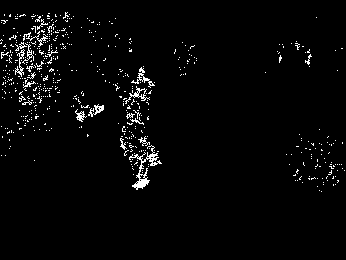person: (119, 107, 165, 192), (127, 61, 163, 123)
